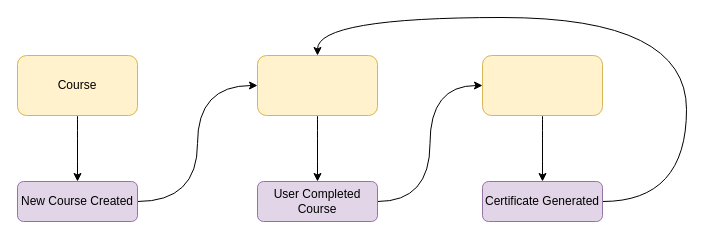
This 704x239 diagram has some shape labels left out. The box of each missing label's shape, as (x1, y1, x2, y2) in pixels:
Certification: (482, 54, 602, 116)
Learner: (256, 54, 378, 116)
